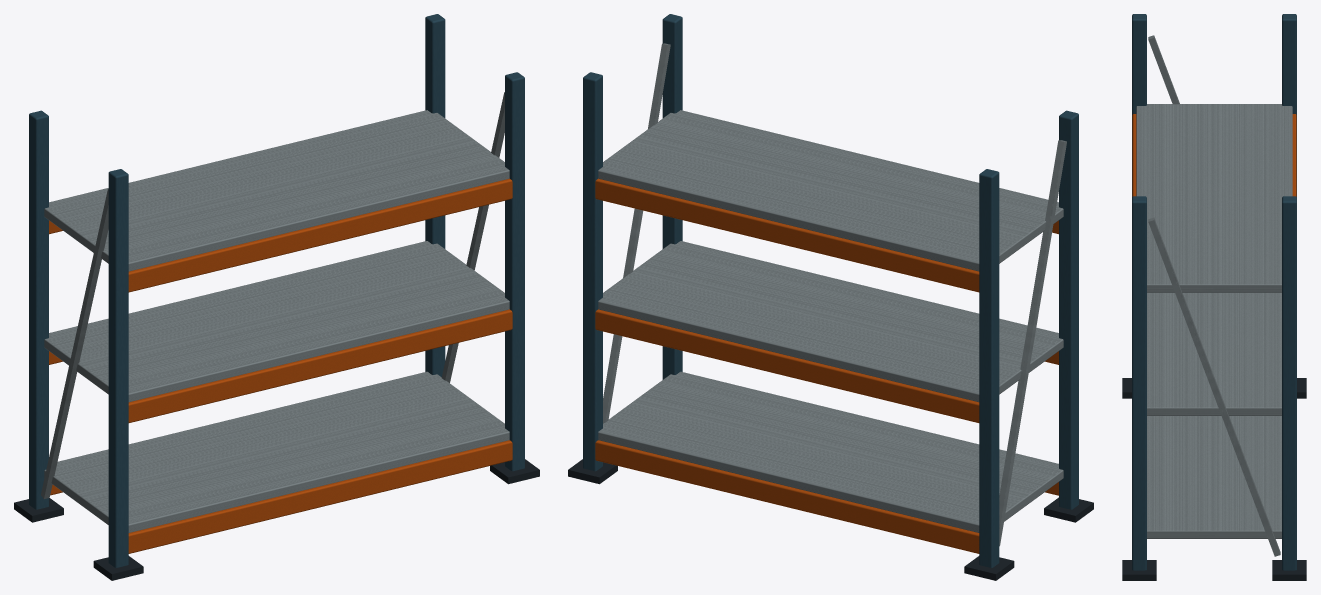
Rendered from rack.3c9654e0d9df.glb.
3 views of the same model, side by side, from view 1: azimuth 30°, elevation 25°; view 2: azimuth 150°, elevation 25°; view 3: azimuth 270°, elevation 25° (orthographic). The views are drawn at different scales.
Parts seen in each view (by area): view 1: shelf_0011, shelf_0014, shelf_0017, load_beam_0010, load_beam_0016, rack_post_0003, load_beam_0013, rack_post_0001, rack_post_0007, rack_post_0005, cross_brace_0018, cross_brace_0019 (+3 smaller); view 2: shelf_0017, shelf_0014, shelf_0011, load_beam_0009, load_beam_0015, rack_post_0001, load_beam_0012, rack_post_0003, rack_post_0005, cross_brace_0018, rack_post_0007, cross_brace_0019 (+3 smaller); view 3: shelf_0017, shelf_0014, shelf_0011, rack_post_0005, rack_post_0007, cross_brace_0019, rack_post_0001, rack_post_0003, foot_0006, foot_0008, cross_brace_0018, load_beam_0015 (+1 smaller).
Boxes of the visible parts, <box> form: shelf_0011: <box>44,371,509,532</box>; shelf_0014: <box>44,241,509,402</box>; shelf_0017: <box>44,110,509,271</box>; load_beam_0010: <box>128,440,512,553</box>; load_beam_0016: <box>128,178,512,292</box>; rack_post_0003: <box>108,169,128,567</box>; load_beam_0013: <box>128,309,512,422</box>; rack_post_0001: <box>29,110,48,509</box>; rack_post_0007: <box>505,72,524,471</box>; rack_post_0005: <box>425,14,445,376</box>; cross_brace_0018: <box>41,188,108,498</box>; cross_brace_0019: <box>441,92,504,382</box>; shelf_0017: <box>598,110,1063,271</box>; shelf_0014: <box>598,241,1063,402</box>; shelf_0011: <box>598,371,1063,532</box>; load_beam_0009: <box>595,440,979,553</box>; load_beam_0015: <box>595,178,979,292</box>; rack_post_0001: <box>979,169,999,567</box>; load_beam_0012: <box>595,309,979,422</box>; rack_post_0003: <box>1059,110,1078,509</box>; rack_post_0005: <box>583,72,602,471</box>; cross_brace_0018: <box>999,140,1066,546</box>; rack_post_0007: <box>662,14,682,379</box>; cross_brace_0019: <box>603,43,670,423</box>; shelf_0017: <box>1136,104,1292,292</box>; shelf_0014: <box>1147,292,1281,415</box>; shelf_0011: <box>1147,416,1281,538</box>; rack_post_0005: <box>1282,196,1296,570</box>; rack_post_0007: <box>1132,196,1146,570</box>; cross_brace_0019: <box>1148,217,1280,556</box>; rack_post_0001: <box>1282,14,1296,197</box>; rack_post_0003: <box>1132,14,1146,197</box>; foot_0006: <box>1272,560,1306,580</box>; foot_0008: <box>1122,560,1156,580</box>; cross_brace_0018: <box>1148,35,1179,104</box>; load_beam_0015: <box>1292,114,1296,196</box>.
Bounding box in the file's own units: 2.98 × 2.65 × 1.18.
Materials: 4 (4 with a texture image).
